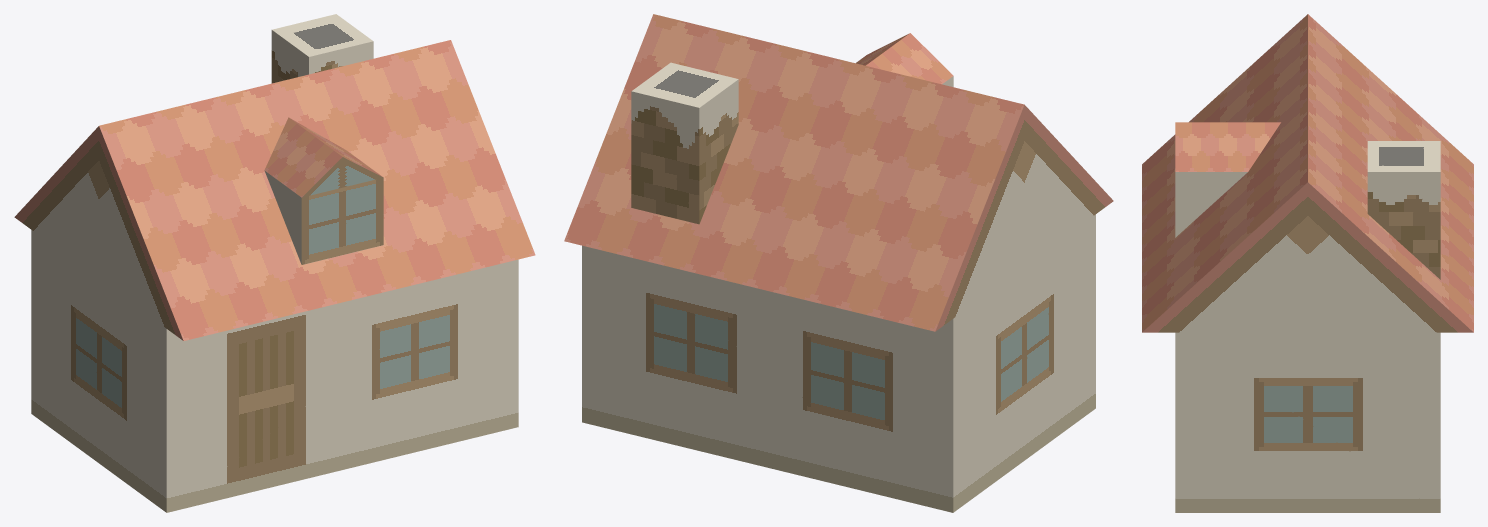
Rendered from 006f_House.glb.
The picture shows the model from 3 angles, left to right: view 1: azimuth 30°, elevation 25°; view 2: azimuth 150°, elevation 25°; view 3: azimuth 270°, elevation 25°; orthographic projection. The views are drawn at different scales.
Parts seen in each view (by area): view 1: part_0; view 2: part_0; view 3: part_0.
Part boxes in pixels (x1=…): part_0: x1=14, y1=14, x2=535, y2=512; part_0: x1=564, y1=14, x2=1113, y2=512; part_0: x1=1142, y1=14, x2=1473, y2=512.
Bounding box in the file's own units: 0.075 × 0.0687 × 0.0625.
Materials: 1 (1 with a texture image).
